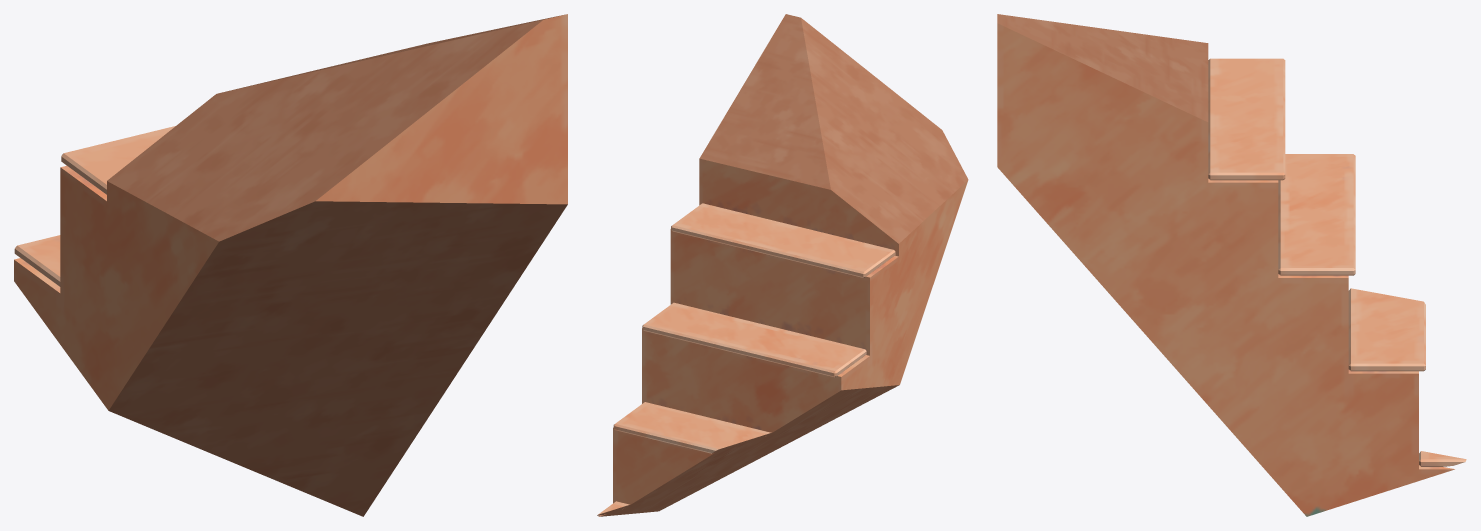
File: stairs_narrow_s00.fbx
3 renders of one model, left to right at view 1: azimuth 30°, elevation 25°; view 2: azimuth 150°, elevation 25°; view 3: azimuth 270°, elevation 25°, orthographic. The views are drawn at different scales.
Parts seen in each view (by area): view 1: stairs_narrow_s00; view 2: stairs_narrow_s00; view 3: stairs_narrow_s00.
Part boxes in pixels (left/top/right/bottom): stairs_narrow_s00: left=14, top=14, right=567, bottom=516; stairs_narrow_s00: left=597, top=14, right=968, bottom=516; stairs_narrow_s00: left=997, top=14, right=1466, bottom=516.
Bounding box in the file's own units: 4 × 7.75 × 6.68.
